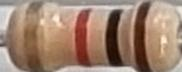Black: (105, 8, 126, 68)
Brown: (134, 1, 156, 72)
Red: (72, 7, 96, 67)
Side-Silver: (24, 1, 49, 71)
